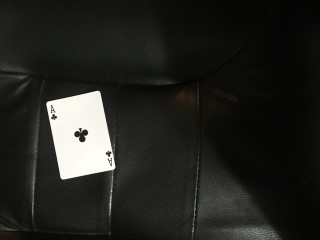AceOfClubs: (46, 89, 116, 181)
